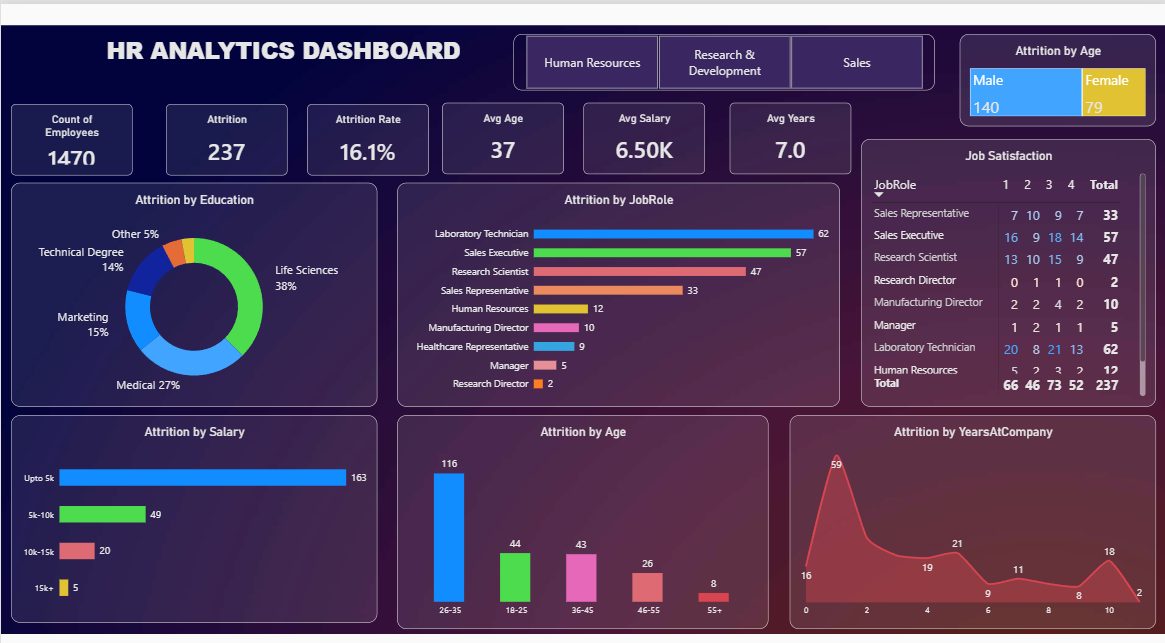

The dashboard page shown, as its layout file describes it:
{"tool":"powerbi","page":{"name":"Page 1","canvas":[1920,1080],"ordinal":0},"visuals":[{"type":"donutChart","title":"Attrition by Education","fields":{"Category":["HR_Analytics.EducationField"],"Y":["Sum(HR_Analytics.AttritionCount)"]},"box":[16.5,294.3,603.1,368.4],"z":6000},{"type":"columnChart","title":"Attrition by Age","fields":{"Category":["HR_Analytics.AgeGroup"],"Y":["Sum(HR_Analytics.AttritionCount)"]},"box":[652.5,677.2,611.3,352],"z":7000},{"type":"pivotTable","title":"Job Satisfaction","fields":{"Columns":["HR_Analytics.JobSatisfaction"],"Rows":["HR_Analytics.JobRole"],"Values":["Sum(HR_Analytics.AttritionCount)"]},"box":[1416.1,222.3,485.8,440.5],"z":8000},{"type":"barChart","title":"Attrition by Salary","fields":{"Category":["HR_Analytics.SalarySlab"],"Y":["Sum(HR_Analytics.AttritionCount)"]},"box":[16.5,677.2,603.1,341.7],"z":9000},{"type":"barChart","title":"Attrition by JobRole","fields":{"Category":["HR_Analytics.JobRole"],"Y":["Sum(HR_Analytics.AttritionCount)"]},"box":[652.5,294.3,728.6,368.4],"z":10000},{"type":"areaChart","title":"Attrition by YearsAtCompany","fields":{"Category":["HR_Analytics.YearsAtCompany"],"Y":["Sum(HR_Analytics.AttritionCount)"]},"box":[1298.8,677.2,603.1,352],"z":11000},{"type":"treemap","title":"Attrition by Age","fields":{"Group":["HR_Analytics.Gender"],"Values":["Sum(HR_Analytics.AttritionCount)"]},"box":[1578.7,49.4,323.2,152.3],"z":11001},{"type":"card","title":"Count of Employees","fields":{"Values":["Sum(HR_Analytics.EmployeeCount)"]},"box":[16.5,164.7,199.7,117.3],"z":11002},{"type":"card","title":"Attrition","fields":{"Values":["Sum(HR_Analytics.AttritionCount)"]},"box":[271.7,164.7,199.7,117.3],"z":11003},{"type":"card","title":"Attrition Rate","fields":{"Values":["HR_Analytics.AttritionRate"]},"box":[504.3,164.7,199.7,117.3],"z":11004},{"type":"card","title":"Avg  Age","fields":{"Values":["Avg(HR_Analytics.Age)"]},"box":[726.6,162.6,199.7,117.3],"z":11005},{"type":"card","title":"Avg Salary","fields":{"Values":["Avg(HR_Analytics.MonthlyIncome)"]},"box":[959.2,162.6,199.7,117.3],"z":11006},{"type":"card","title":"Avg Years","fields":{"Values":["Avg(HR_Analytics.YearsAtCompany)"]},"box":[1200,162.6,199.7,117.3],"z":11007},{"type":"slicer","fields":{"Values":["HR_Analytics.Department"]},"box":[843.9,49.4,693.7,92.6],"z":11008},{"type":"textbox","box":[16.5,49.4,909.8,76.2],"z":11009}]}

Visuals, with their boxes in screenshot pixels (x1, y1, x2, y2), scaled from the page's 1920x1080 canvas onto the 1165x643 screenshot:
"Attrition by Education" donutChart: [10,175,376,395]
"Attrition by Age" columnChart: [396,403,767,613]
"Job Satisfaction" pivotTable: [859,132,1154,395]
"Attrition by Salary" barChart: [10,403,376,607]
"Attrition by JobRole" barChart: [396,175,838,395]
"Attrition by YearsAtCompany" areaChart: [788,403,1154,613]
"Attrition by Age" treemap: [958,29,1154,120]
"Count of Employees" card: [10,98,131,168]
"Attrition" card: [165,98,286,168]
"Attrition Rate" card: [306,98,427,168]
"Avg  Age" card: [441,97,562,167]
"Avg Salary" card: [582,97,703,167]
"Avg Years" card: [728,97,849,167]
slicer - HR_Analytics.Department: [512,29,933,85]
textbox: [10,29,562,75]
